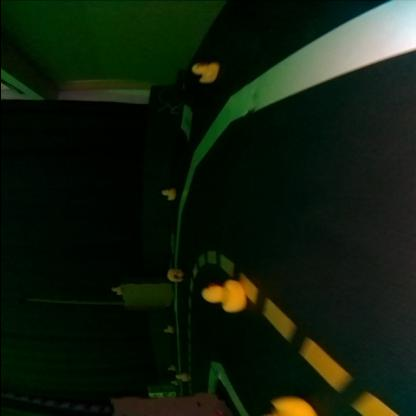Duckie: (201, 283, 243, 313), (190, 63, 218, 83), (166, 271, 182, 281), (160, 192, 174, 201), (110, 287, 121, 295), (176, 376, 184, 382), (164, 327, 172, 333), (169, 382, 176, 386), (166, 367, 172, 371)
